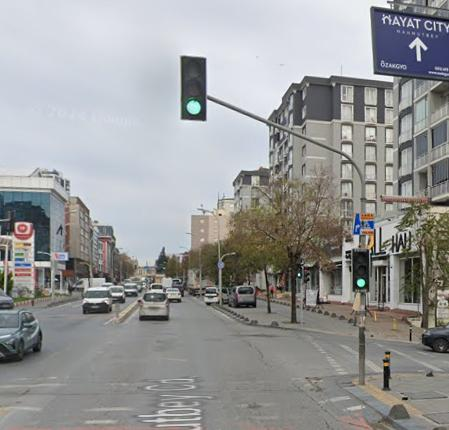greenlight: (181, 57, 206, 120), (353, 249, 368, 290)
